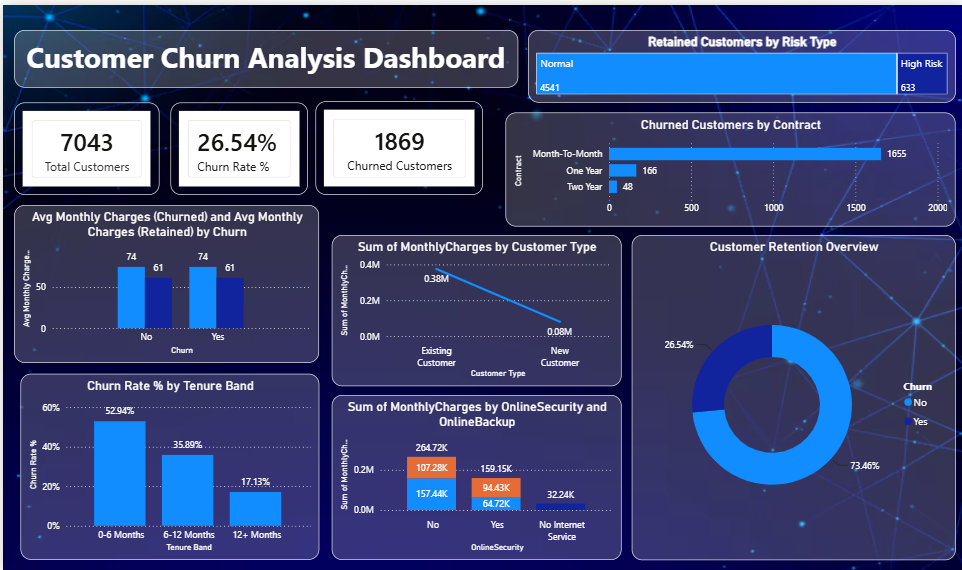

Layout of this report page (visuals, bound fields, positions):
{"tool":"powerbi","page":{"name":"Page 1","canvas":[1280,720],"ordinal":0},"visuals":[{"type":"treemap","fields":{"Values":["Calculated Measure.Retained Customers"],"Group":["telco_churn_unclean.Risk Type"]},"box":[700,0,570,96.7],"z":1},{"type":"cardVisual","fields":{"Data":["Calculated Measure.Total Customers"]},"box":[15,96.7,193.3,123.3],"z":2},{"type":"cardVisual","fields":{"Data":["Calculated Measure.Churn Rate %"]},"box":[223.3,96.7,183.3,123.3],"z":3},{"type":"cardVisual","fields":{"Data":["Calculated Measure.Churned Customers"]},"box":[416.7,95,223.3,125],"z":4},{"type":"donutChart","title":"Customer Retention Overview","fields":{"Y":["Calculated Measure.Total Customers"],"Category":["telco_churn_unclean.Churn"]},"box":[838.3,273.3,431.7,433.3],"z":5},{"type":"barChart","fields":{"Category":["telco_churn_unclean.Contract"],"Y":["Calculated Measure.Churned Customers"]},"box":[670,110,600,151.7],"z":6},{"type":"columnChart","fields":{"Category":["telco_churn_unclean.OnlineSecurity"],"Y":["Sum(telco_churn_unclean.MonthlyCharges)"],"Series":["telco_churn_unclean.OnlineBackup"]},"box":[438.3,486.7,386.7,220],"z":7},{"type":"columnChart","fields":{"Y":["Calculated Measure.Churn Rate %"],"Category":["telco_churn_unclean.Tenure Band"]},"box":[23.3,458.3,398.3,248.3],"z":8},{"type":"clusteredColumnChart","fields":{"Y":["Calculated Measure.Avg Monthly Charges (Churned)","Calculated Measure.Avg Monthly Charges (Retained)"],"Category":["telco_churn_unclean.Churn"]},"box":[15,233.3,406.7,210],"z":9},{"type":"lineChart","fields":{"Category":["telco_churn_unclean.Customer Type"],"Y":["Sum(telco_churn_unclean.MonthlyCharges)"]},"box":[438.3,273.3,386.7,201.7],"z":10},{"type":"textbox","box":[15,0,671.7,76.7],"z":11}]}

Visuals, with their boxes in screenshot pixels (x1, y1, x2, y2):
treemap - Calculated Measure.Retained Customers x telco_churn_unclean.Risk Type: detection(523, 28, 961, 102)
cardVisual - Calculated Measure.Total Customers: detection(0, 102, 145, 197)
cardVisual - Calculated Measure.Churn Rate %: detection(157, 102, 297, 197)
cardVisual - Calculated Measure.Churned Customers: detection(305, 101, 477, 197)
"Customer Retention Overview" donutChart: detection(629, 238, 961, 569)
barChart - telco_churn_unclean.Contract x Calculated Measure.Churned Customers: detection(500, 112, 961, 229)
columnChart - telco_churn_unclean.OnlineSecurity x Sum(telco_churn_unclean.MonthlyCharges): detection(322, 402, 619, 569)
columnChart - Calculated Measure.Churn Rate % x telco_churn_unclean.Tenure Band: detection(3, 380, 309, 569)
clusteredColumnChart - Calculated Measure.Avg Monthly Charges (Churned) x Calculated Measure.Avg Monthly Charges (Retained): detection(0, 207, 309, 368)
lineChart - telco_churn_unclean.Customer Type x Sum(telco_churn_unclean.MonthlyCharges): detection(322, 238, 619, 393)
textbox: detection(0, 28, 513, 86)
